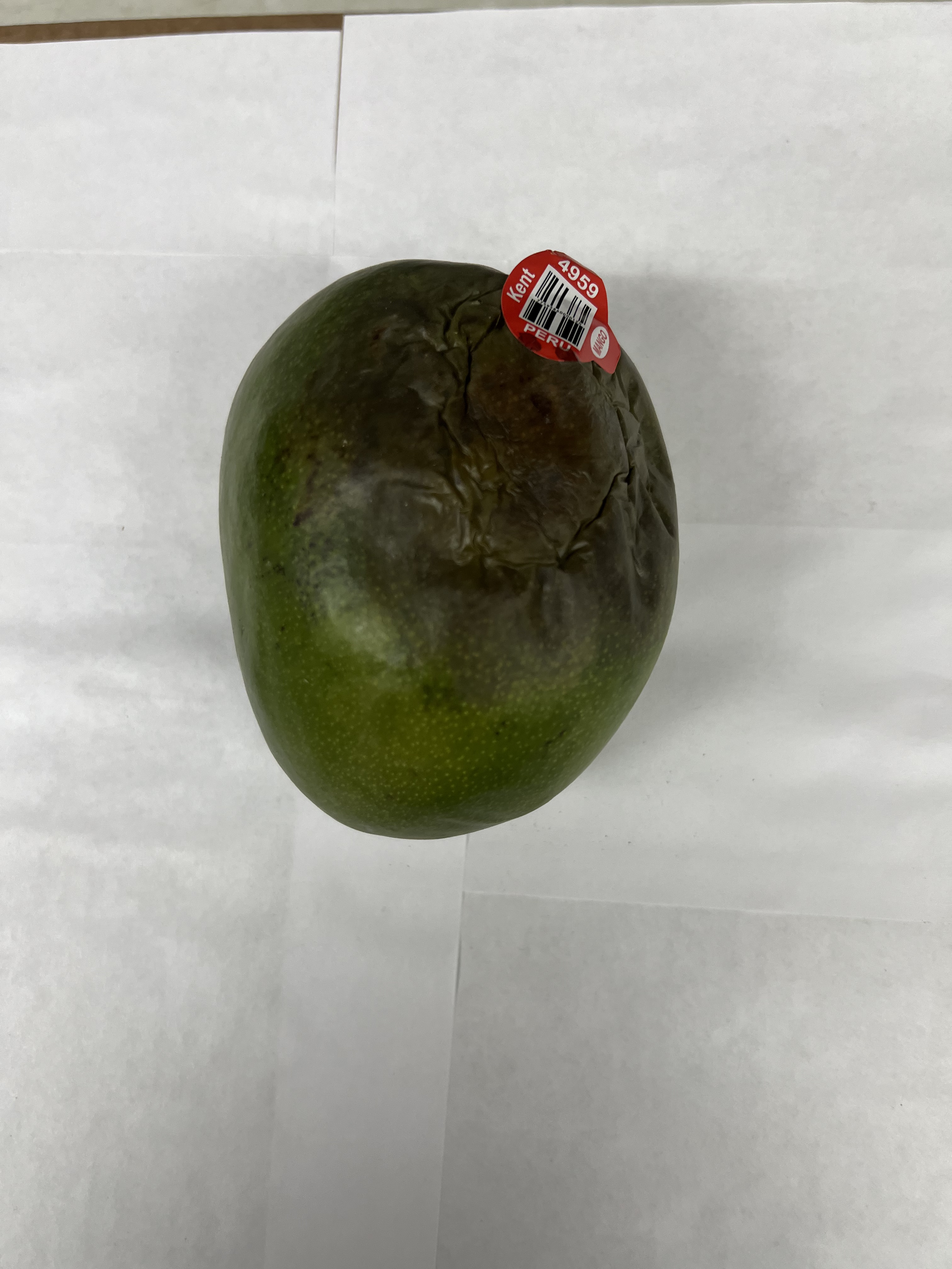produce: (208, 251, 688, 846)
